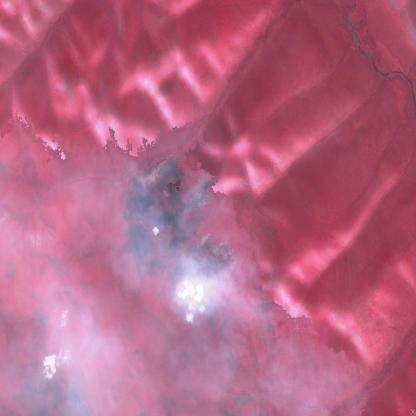fire: (148, 148, 242, 286)
